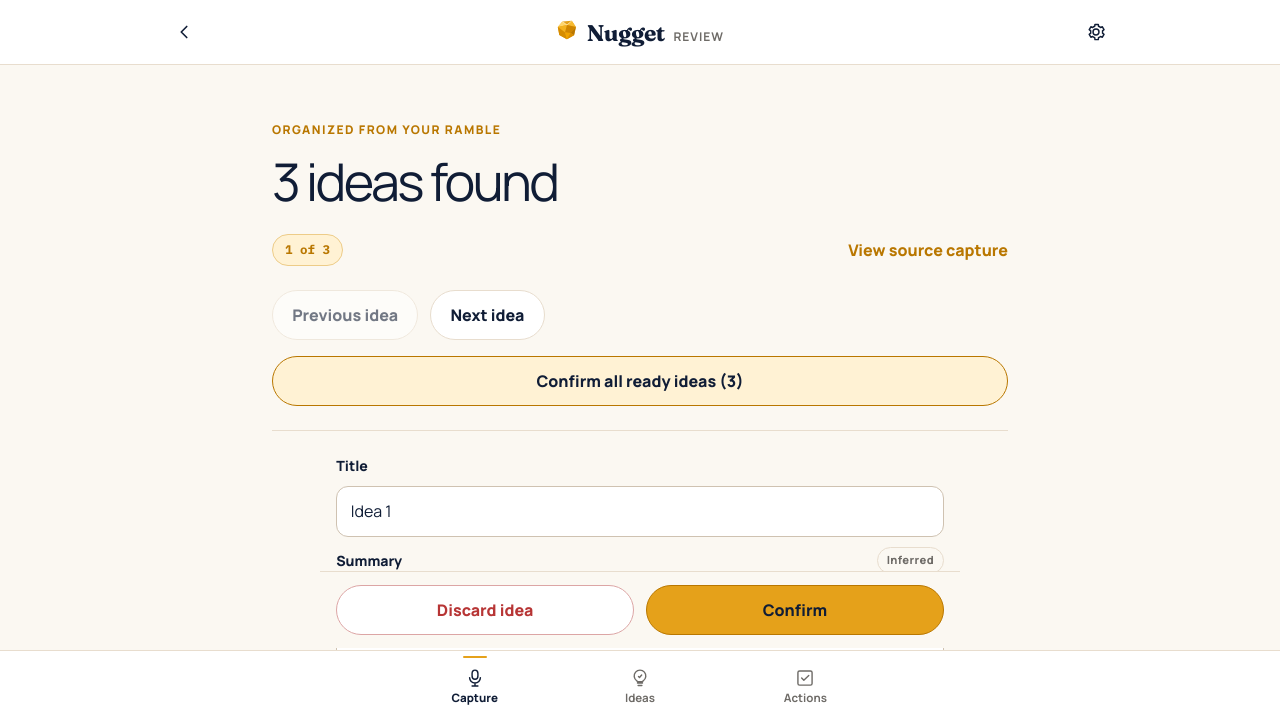
Scenario: ReviewScreen multi-idea confirmation › keeps discard failure feedback and retry operable inside the modal without losing edits
The width and height of the screenshot is (1280, 720).
Check: the heading "3 ideas found" is shown, box 272,146 -> 557,217
Replace the text in the field labelled "Title" with "Keep this edit" at (640, 512), box 336,486 -> 944,537
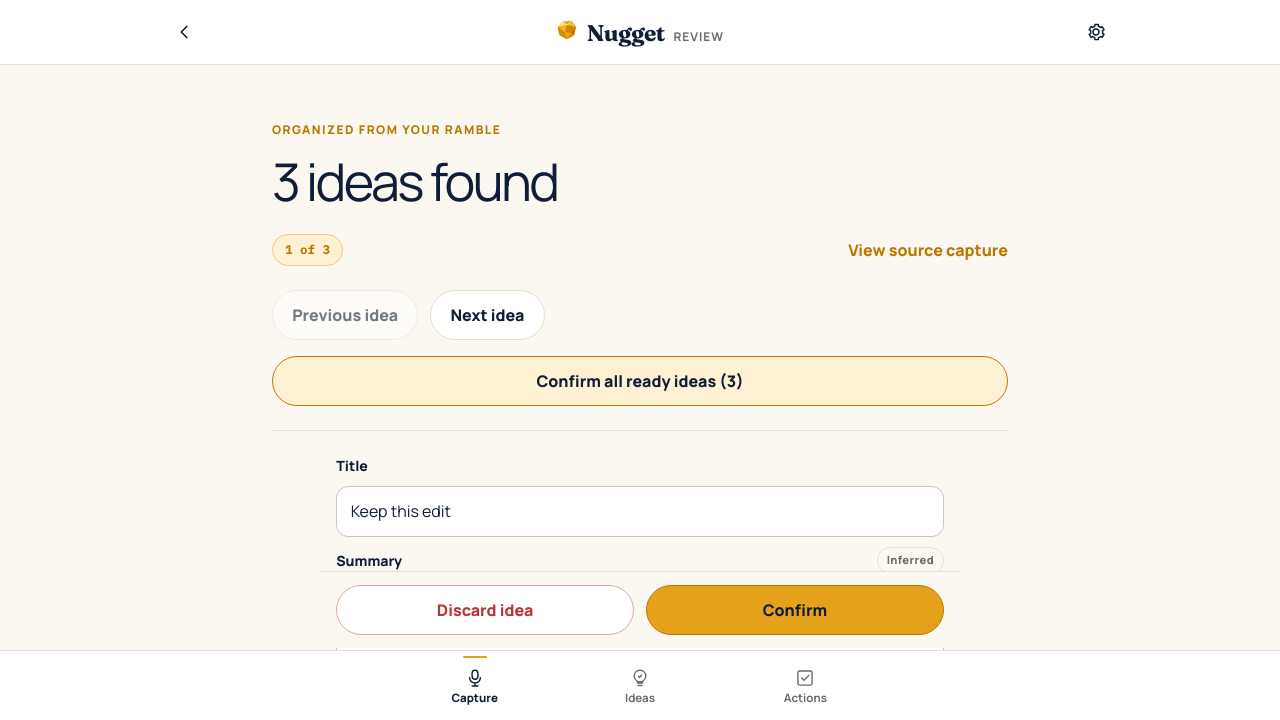
Click the button "Discard idea" at (485, 610), box 336,585 -> 634,635
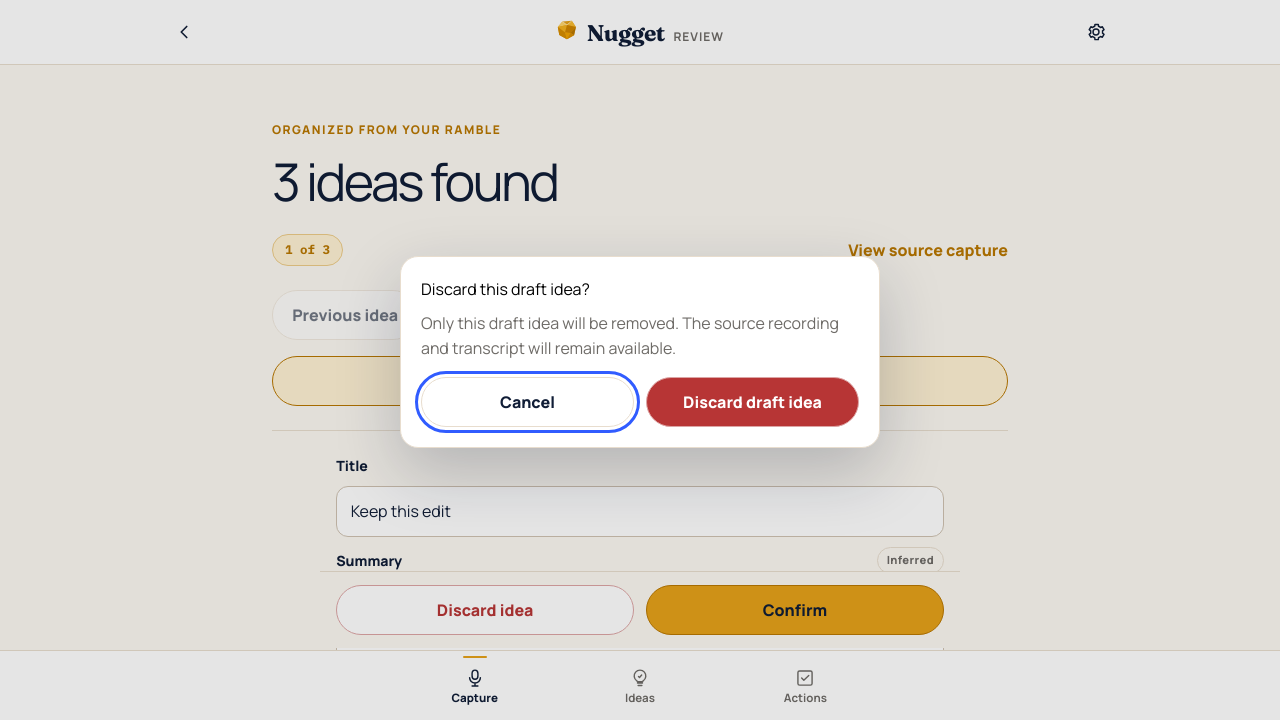
Click the button "Discard draft idea" at (752, 402), box 646,377 -> 859,427
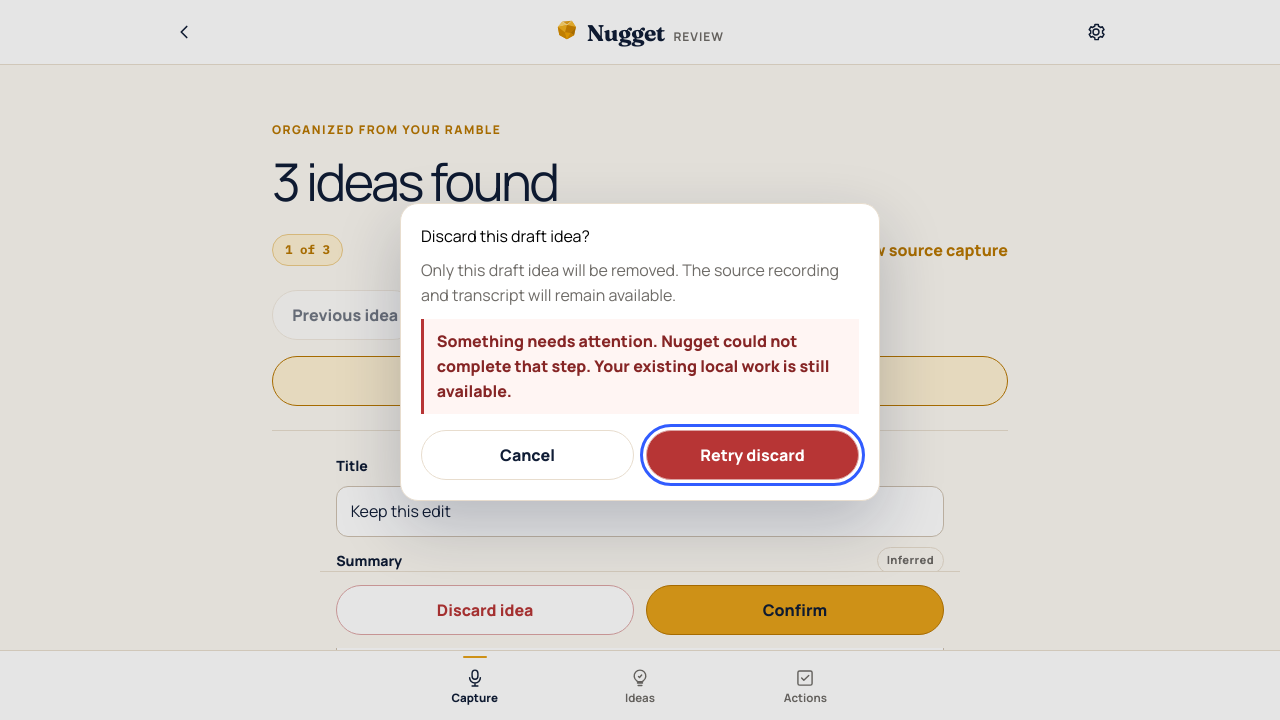
Check: the message does not show "delete failed", box 421,319 -> 859,414
Check: the message shows "Something needs attention", box 437,330 -> 830,402
Click the button "Retry discard" at (752, 455), box 646,430 -> 859,480
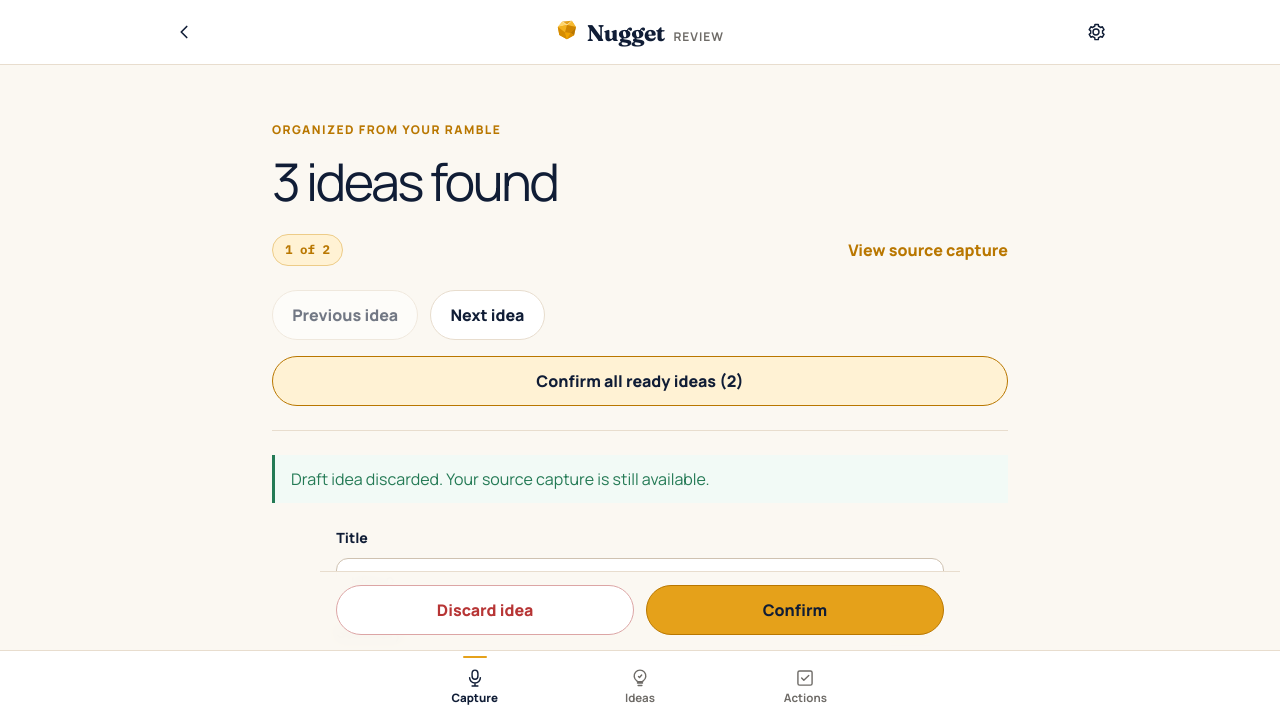
Check: the text "1 of 2" is shown, box 272,234 -> 343,266
